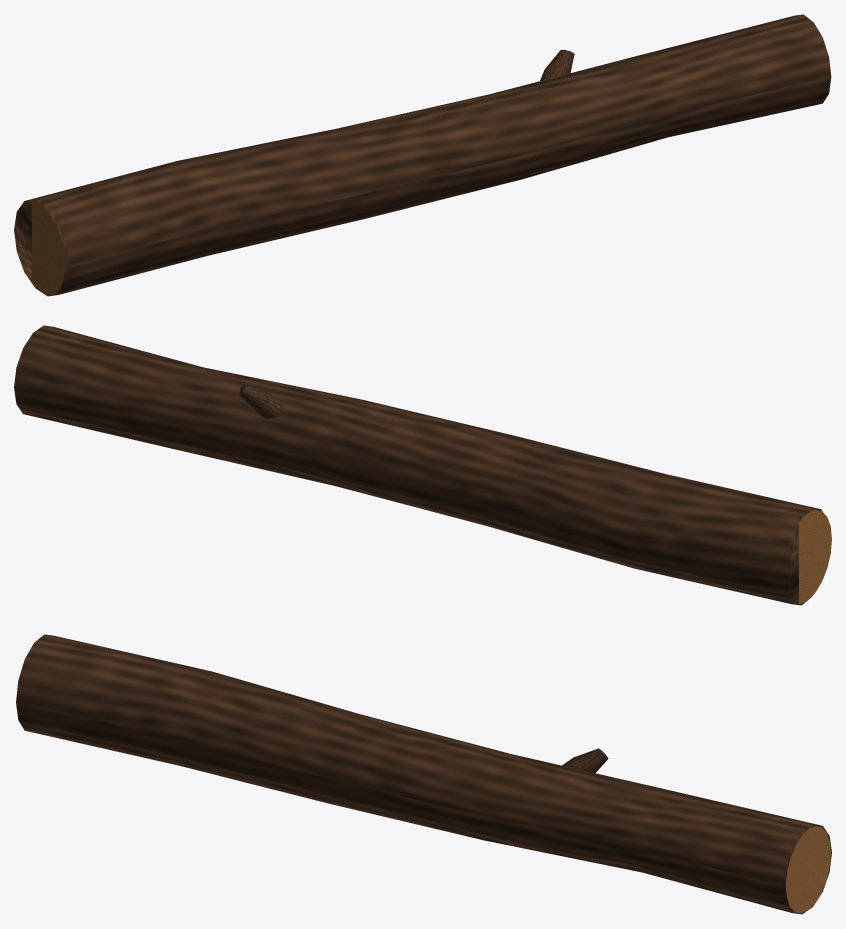
The model's file is log.glb.
3 views of the same model, one above another, from view 1: azimuth 30°, elevation 25°; view 2: azimuth 150°, elevation 25°; view 3: azimuth 330°, elevation 25° (orthographic).
Visible parts, largest first — view 1: log; view 2: log; view 3: log.
Boxes of the visible parts, x1=… form: log: x1=14, y1=14, x2=831, y2=296; log: x1=14, y1=325, x2=831, y2=605; log: x1=16, y1=634, x2=831, y2=914.
Size of the model in its own units: 0.863 by 0.104 by 0.104.
2 materials, 2 textured.
